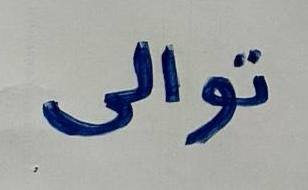alef: (157, 31, 184, 115)
lam: (119, 25, 155, 97)
teh: (236, 35, 276, 121)
waw: (186, 68, 233, 154)
yeh: (32, 99, 138, 152)
